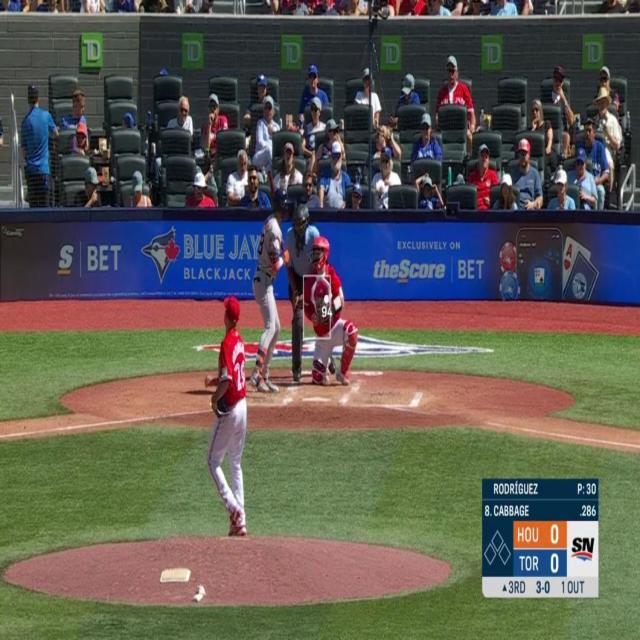Bat: (266, 164, 293, 273)
Player: (181, 253, 270, 534)
